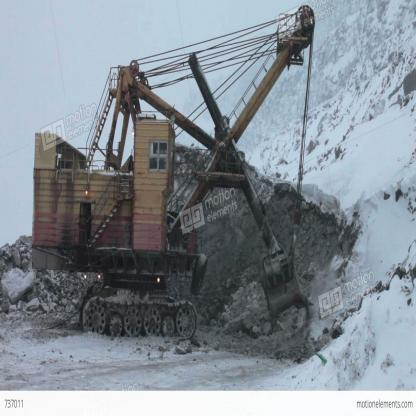excavator: (17, 12, 318, 377)
